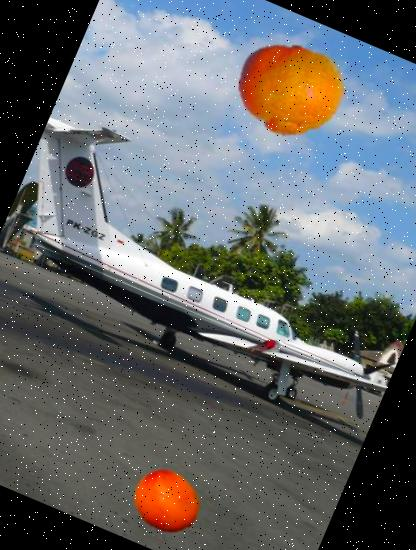Apricot: (121, 458, 210, 547)
Mandarine: (221, 22, 361, 161)
